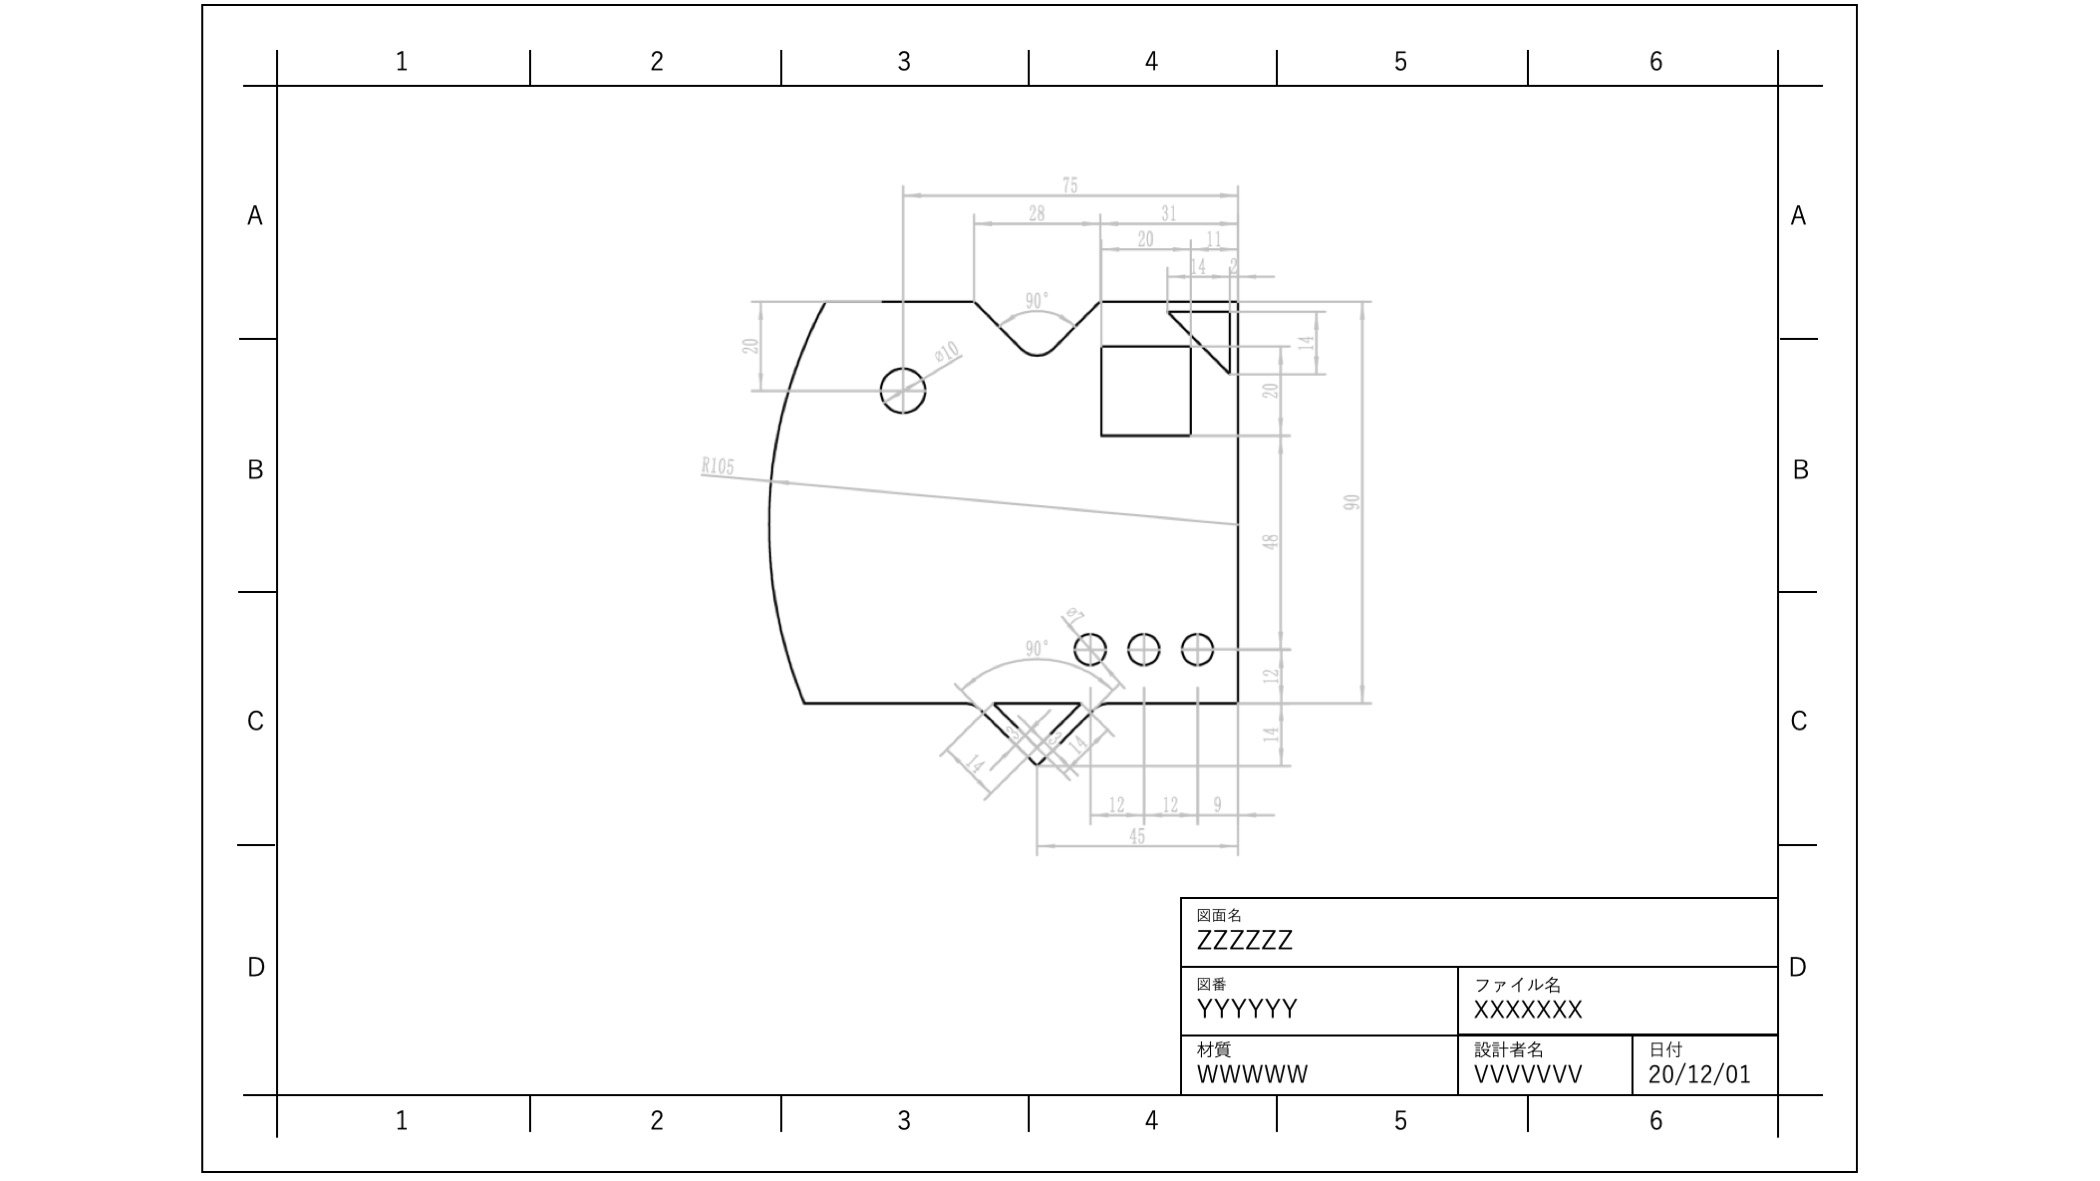circle: (868, 350, 930, 418), (1178, 622, 1217, 678), (1126, 626, 1164, 671), (1070, 627, 1111, 668)
rectangle: (1095, 332, 1199, 444)
triangle: (987, 691, 1087, 756), (1164, 301, 1235, 376)
